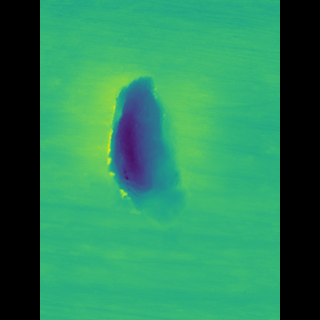Loch: (114, 75, 187, 250)
